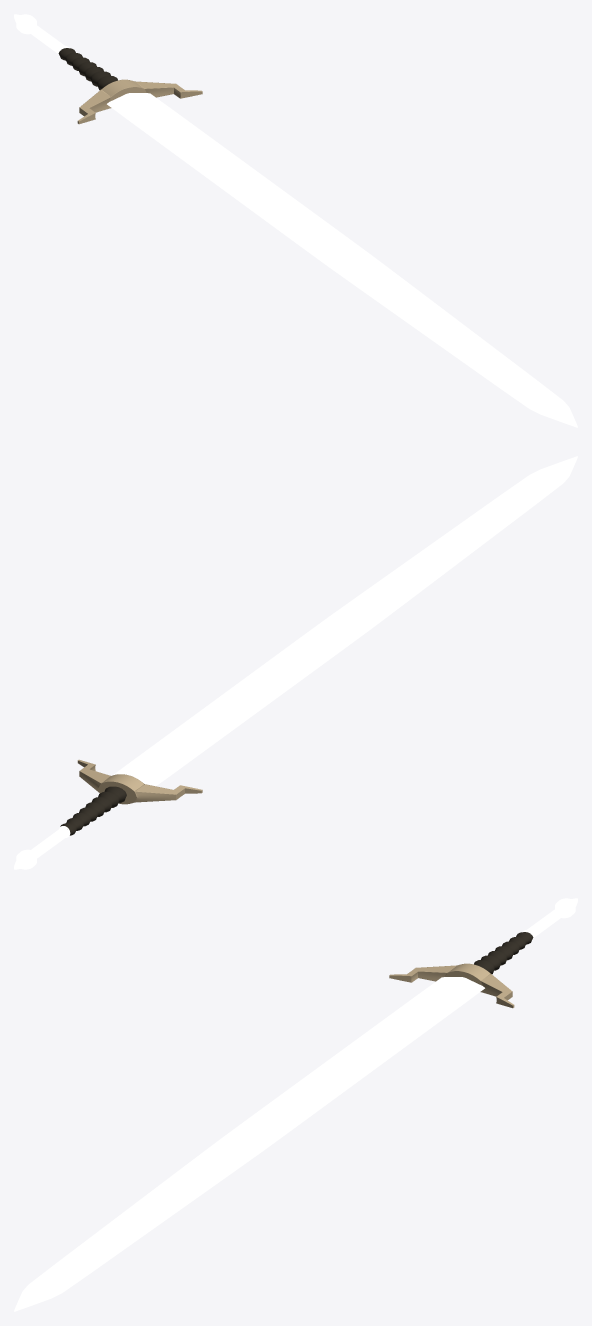
File: sword.glb
3 renders of one model, top to bottom at view 1: azimuth 30°, elevation 25°; view 2: azimuth 150°, elevation 25°; view 3: azimuth 330°, elevation 25°, orthographic.
Visible parts, largest first — view 1: Blade, Hilt, Handle; view 2: Blade, Hilt, Handle; view 3: Blade, Hilt, Handle.
Part boxes in pixels (x1=…): Blade: x1=107, y1=93, x2=577, y2=427; Hilt: x1=77, y1=79, x2=202, y2=124; Handle: x1=58, y1=48, x2=117, y2=90; Blade: x1=113, y1=456, x2=577, y2=786; Hilt: x1=77, y1=759, x2=202, y2=804; Handle: x1=60, y1=786, x2=126, y2=835; Blade: x1=14, y1=977, x2=484, y2=1311; Hilt: x1=389, y1=963, x2=514, y2=1008; Handle: x1=474, y1=932, x2=533, y2=974.
Size of the model in its own units: 14.11 by 2.29 by 111.
